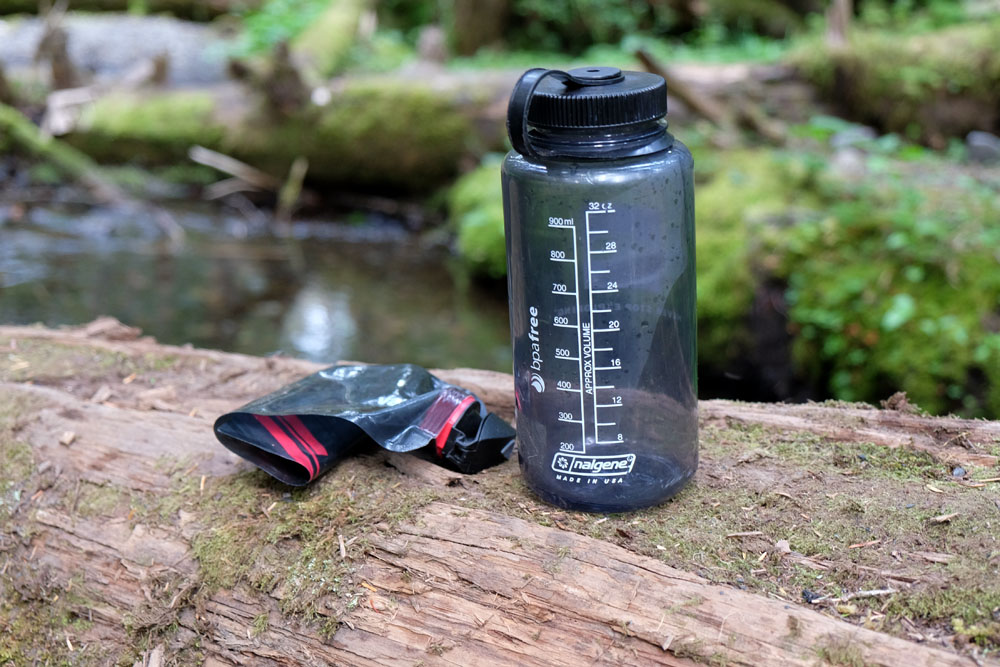bottle: (500, 64, 702, 516)
